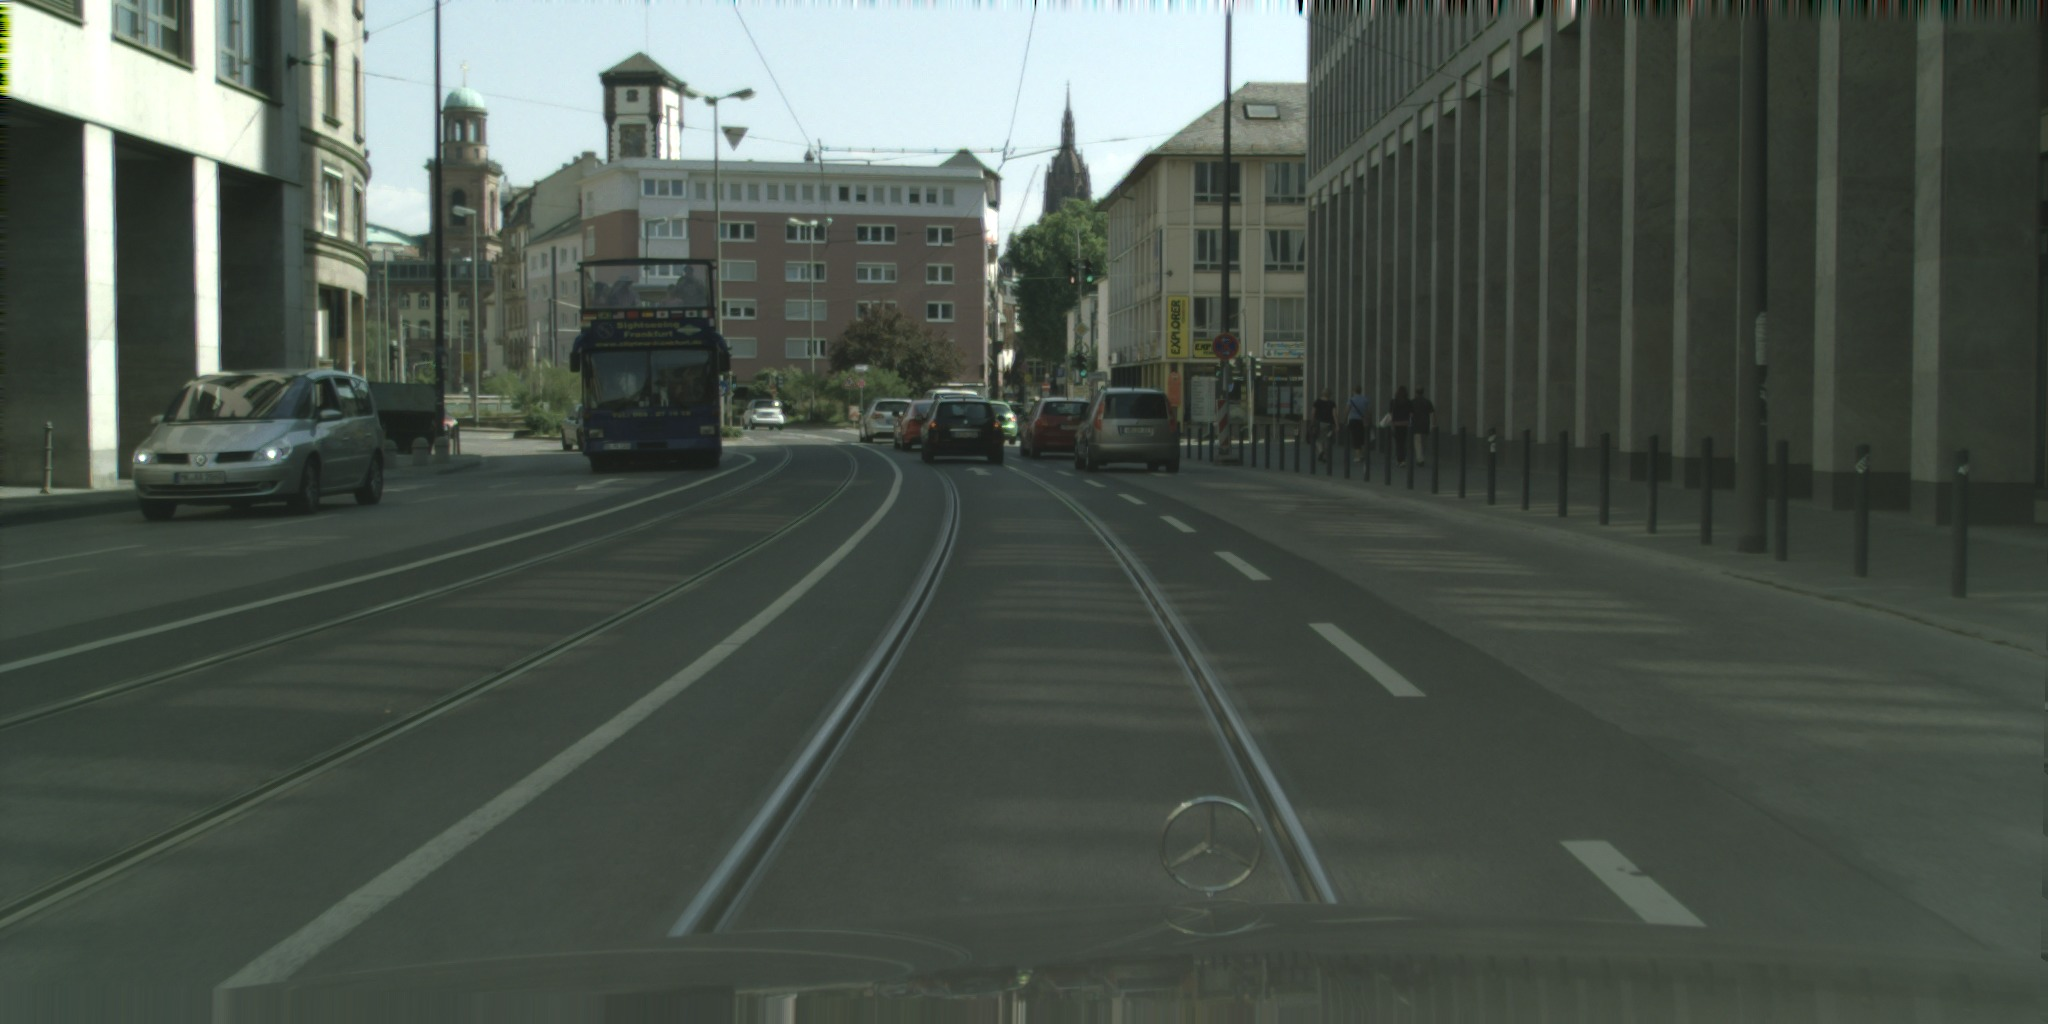bus: (569, 258, 733, 472)
car: (131, 367, 386, 521), (1072, 385, 1180, 471), (917, 396, 1005, 464), (1019, 398, 1098, 458), (858, 398, 914, 444), (892, 400, 939, 453), (561, 401, 597, 452), (742, 398, 786, 431), (986, 400, 1018, 444), (1004, 402, 1032, 436), (922, 389, 982, 404), (436, 407, 460, 437), (1024, 398, 1042, 420)
person: (1408, 384, 1439, 464), (1344, 382, 1374, 463), (1380, 384, 1411, 464), (1308, 387, 1340, 459)
